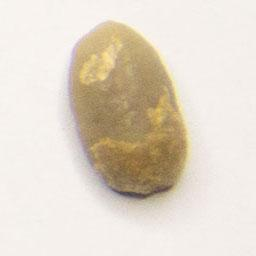longberry: (63, 16, 193, 201)
